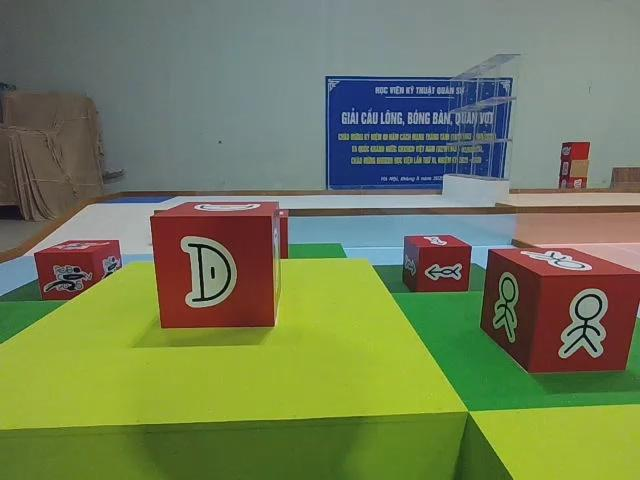R1: (29, 236, 124, 304)
R2 Real: (479, 246, 640, 379), (149, 198, 286, 331), (402, 231, 473, 296)
